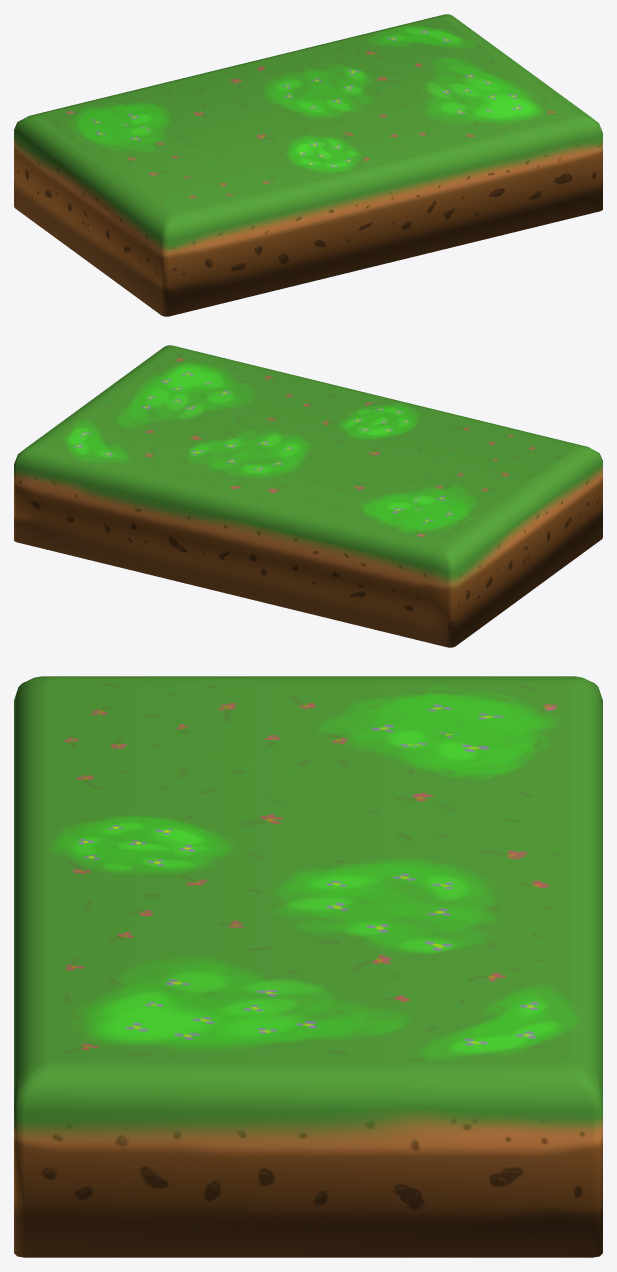
File: PlatformGrass03.fbx
3 views of the same model, one above another, from view 1: azimuth 30°, elevation 25°; view 2: azimuth 150°, elevation 25°; view 3: azimuth 270°, elevation 25° (orthographic). The views are drawn at different scales.
Visible parts, largest first — view 1: PlatformGrass02; view 2: PlatformGrass02; view 3: PlatformGrass02.
Part boxes in pixels (<box>): PlatformGrass02: <box>14,14,602,316</box>; PlatformGrass02: <box>14,345,602,647</box>; PlatformGrass02: <box>14,676,602,1257</box>.
Size of what is drawn, in the model's own units: 10 by 2 by 6.
